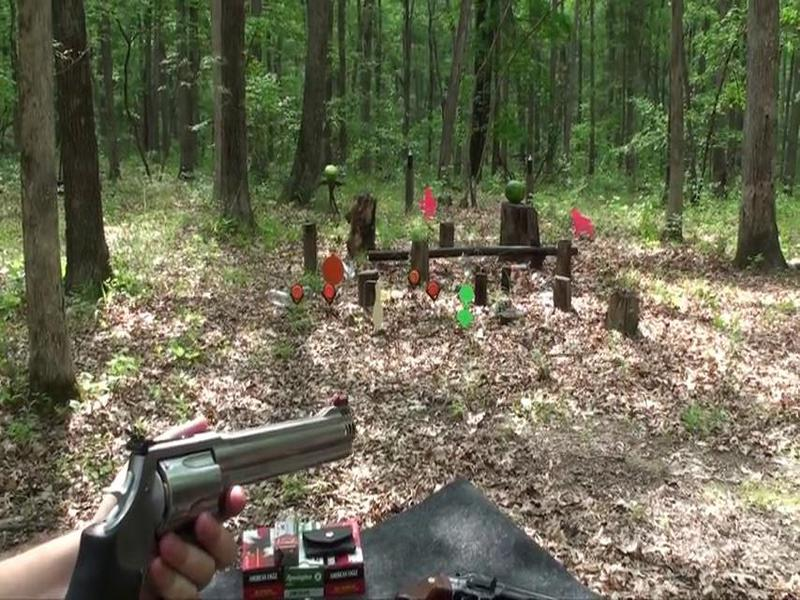Revolver: (76, 394, 365, 552)
